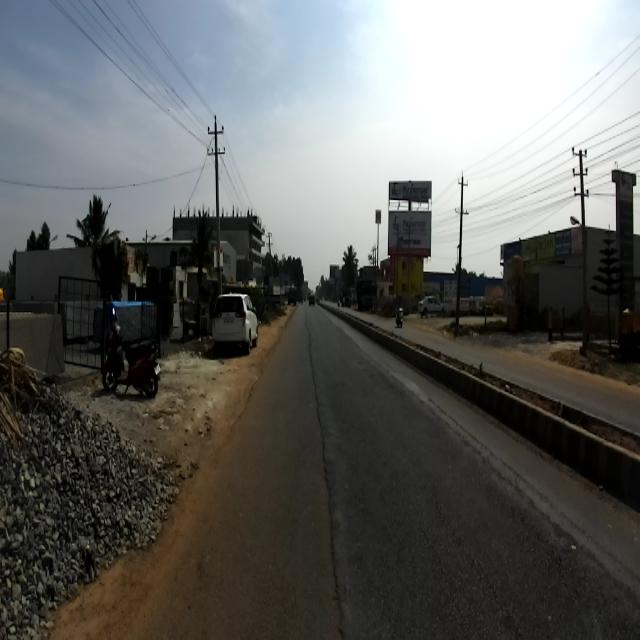car ahead at: (208, 288, 260, 361)
motorcycle ahead at: (96, 305, 164, 403)
